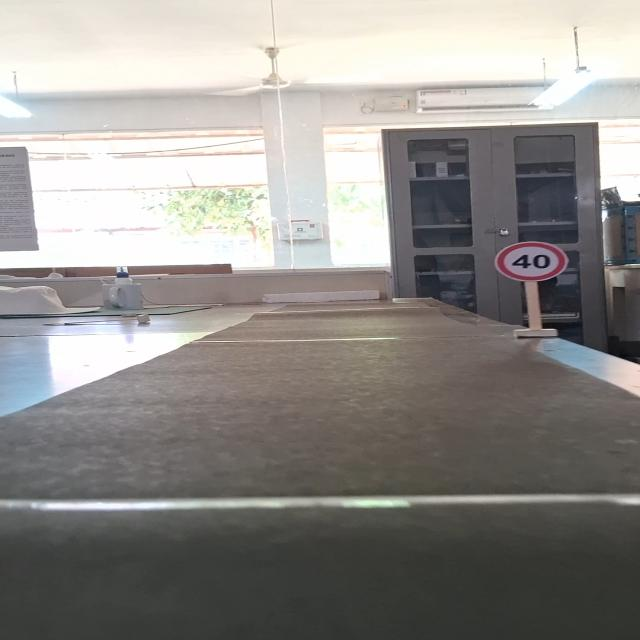Speed40: (494, 240, 570, 282)
